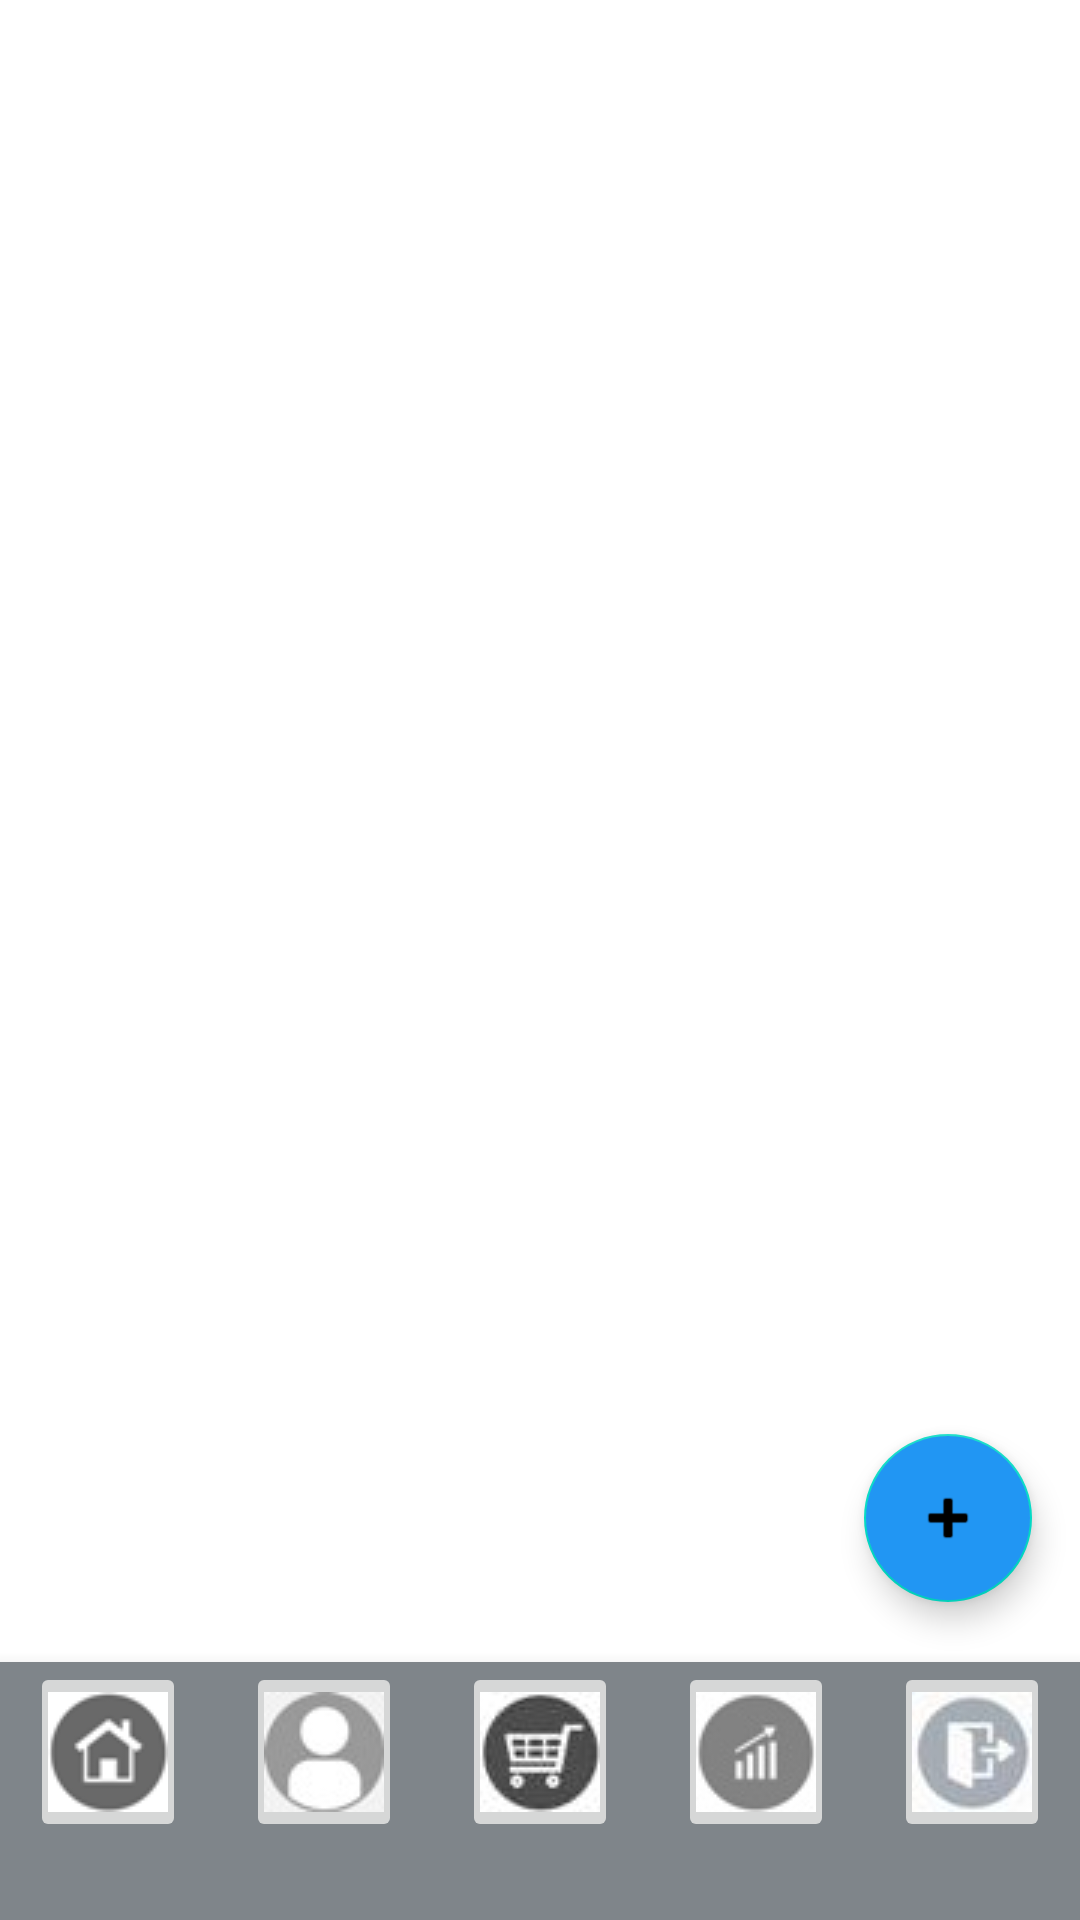

Screen size 1080px×1920px. Icon name, then its center in pixels as (x,y):
add: (948,1518)
grapgh: (756,1752)
home: (108,1752)
profile: (324,1752)
trolley: (540,1752)
